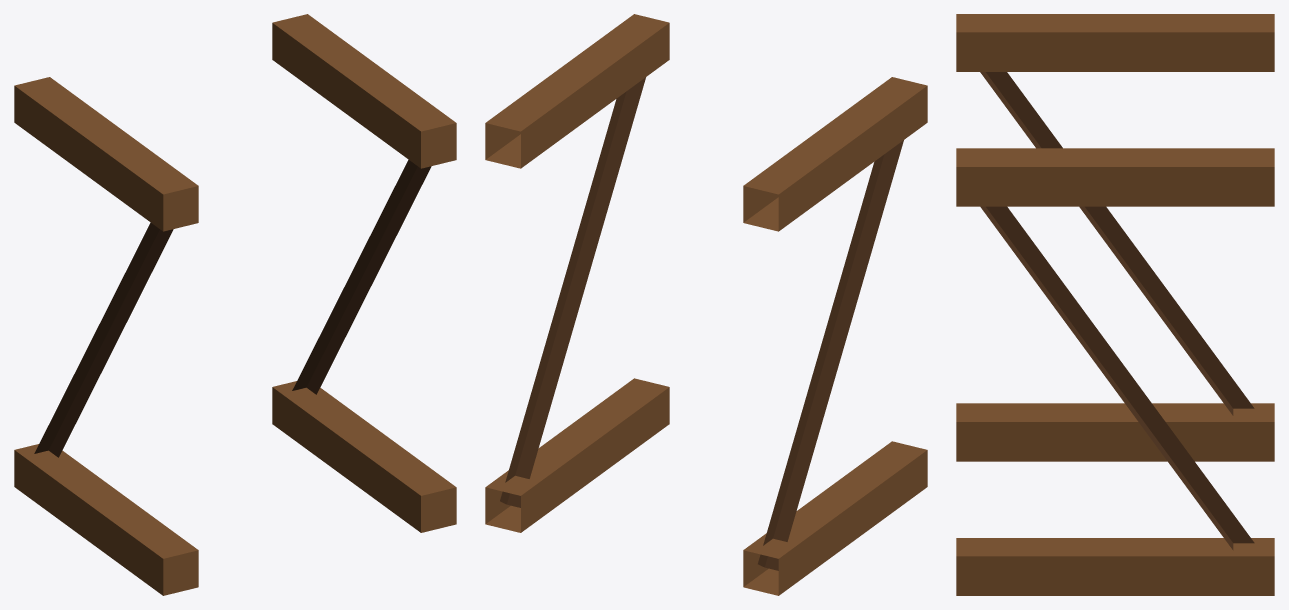
The model's file is pillar.glb.
3 views of the same model, side by side, from view 1: azimuth 30°, elevation 25°; view 2: azimuth 150°, elevation 25°; view 3: azimuth 270°, elevation 25° (orthographic). The views are drawn at different scales.
Visible parts, largest first — view 1: bridge_00_pillar; view 2: bridge_00_pillar; view 3: bridge_00_pillar.
Boxes of the visible parts, x1,y1,x2,y2 form: bridge_00_pillar: (14, 14, 456, 595); bridge_00_pillar: (485, 14, 927, 595); bridge_00_pillar: (956, 14, 1274, 595).
Bounding box in the file's own units: 9.1 × 11.9 × 8.
